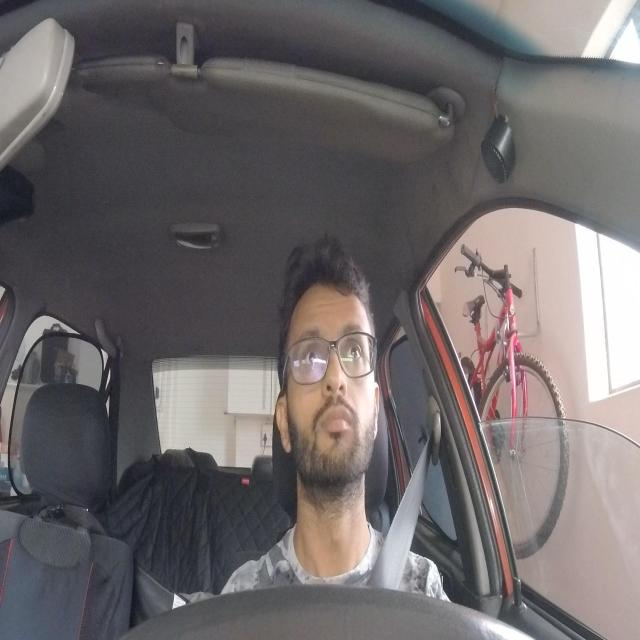open: (297, 326, 325, 376), (340, 321, 369, 369)
